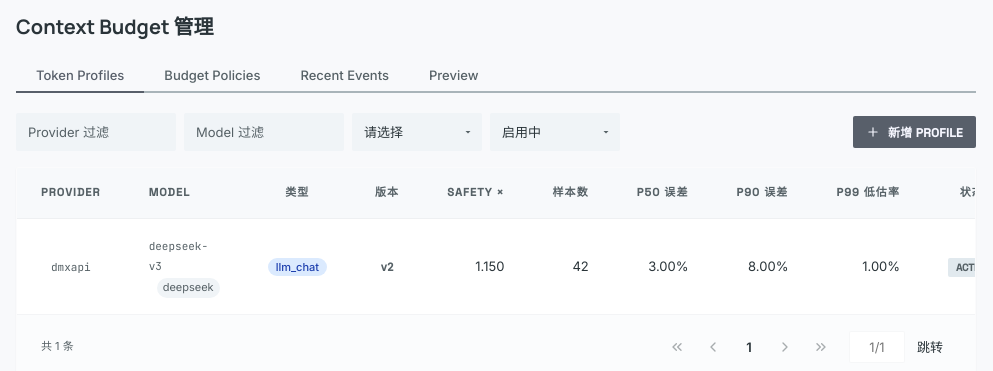
Scenario: renders policy rows with safe ratio and reserved output tokens › renders policy rows with safe ratio and reserved output tokens
Click the tab with class "tab-btn" showing "Budget Policies": (212, 76) x1=144 y1=59 x2=280 y2=93
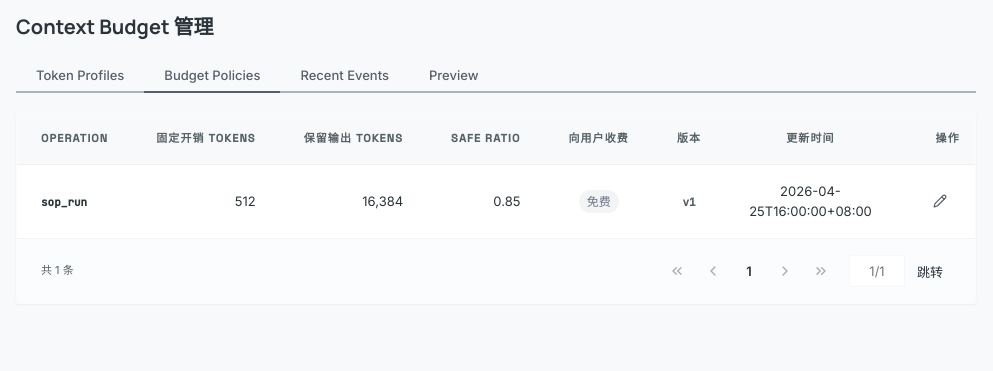
Expected: the text "sop_run" is shown, x1=41 y1=195 x2=87 y2=209
Expected: the text "0.85" is shown, x1=427 y1=164 x2=544 y2=238
Expected: the text "16" is shown, x1=362 y1=193 x2=403 y2=209
